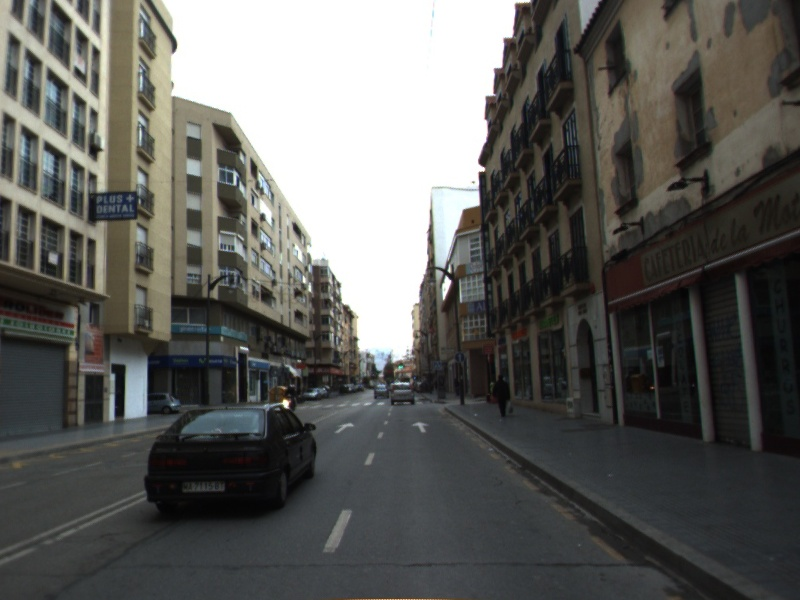STRAIGHT: (331, 420, 357, 435), (409, 419, 433, 434)
